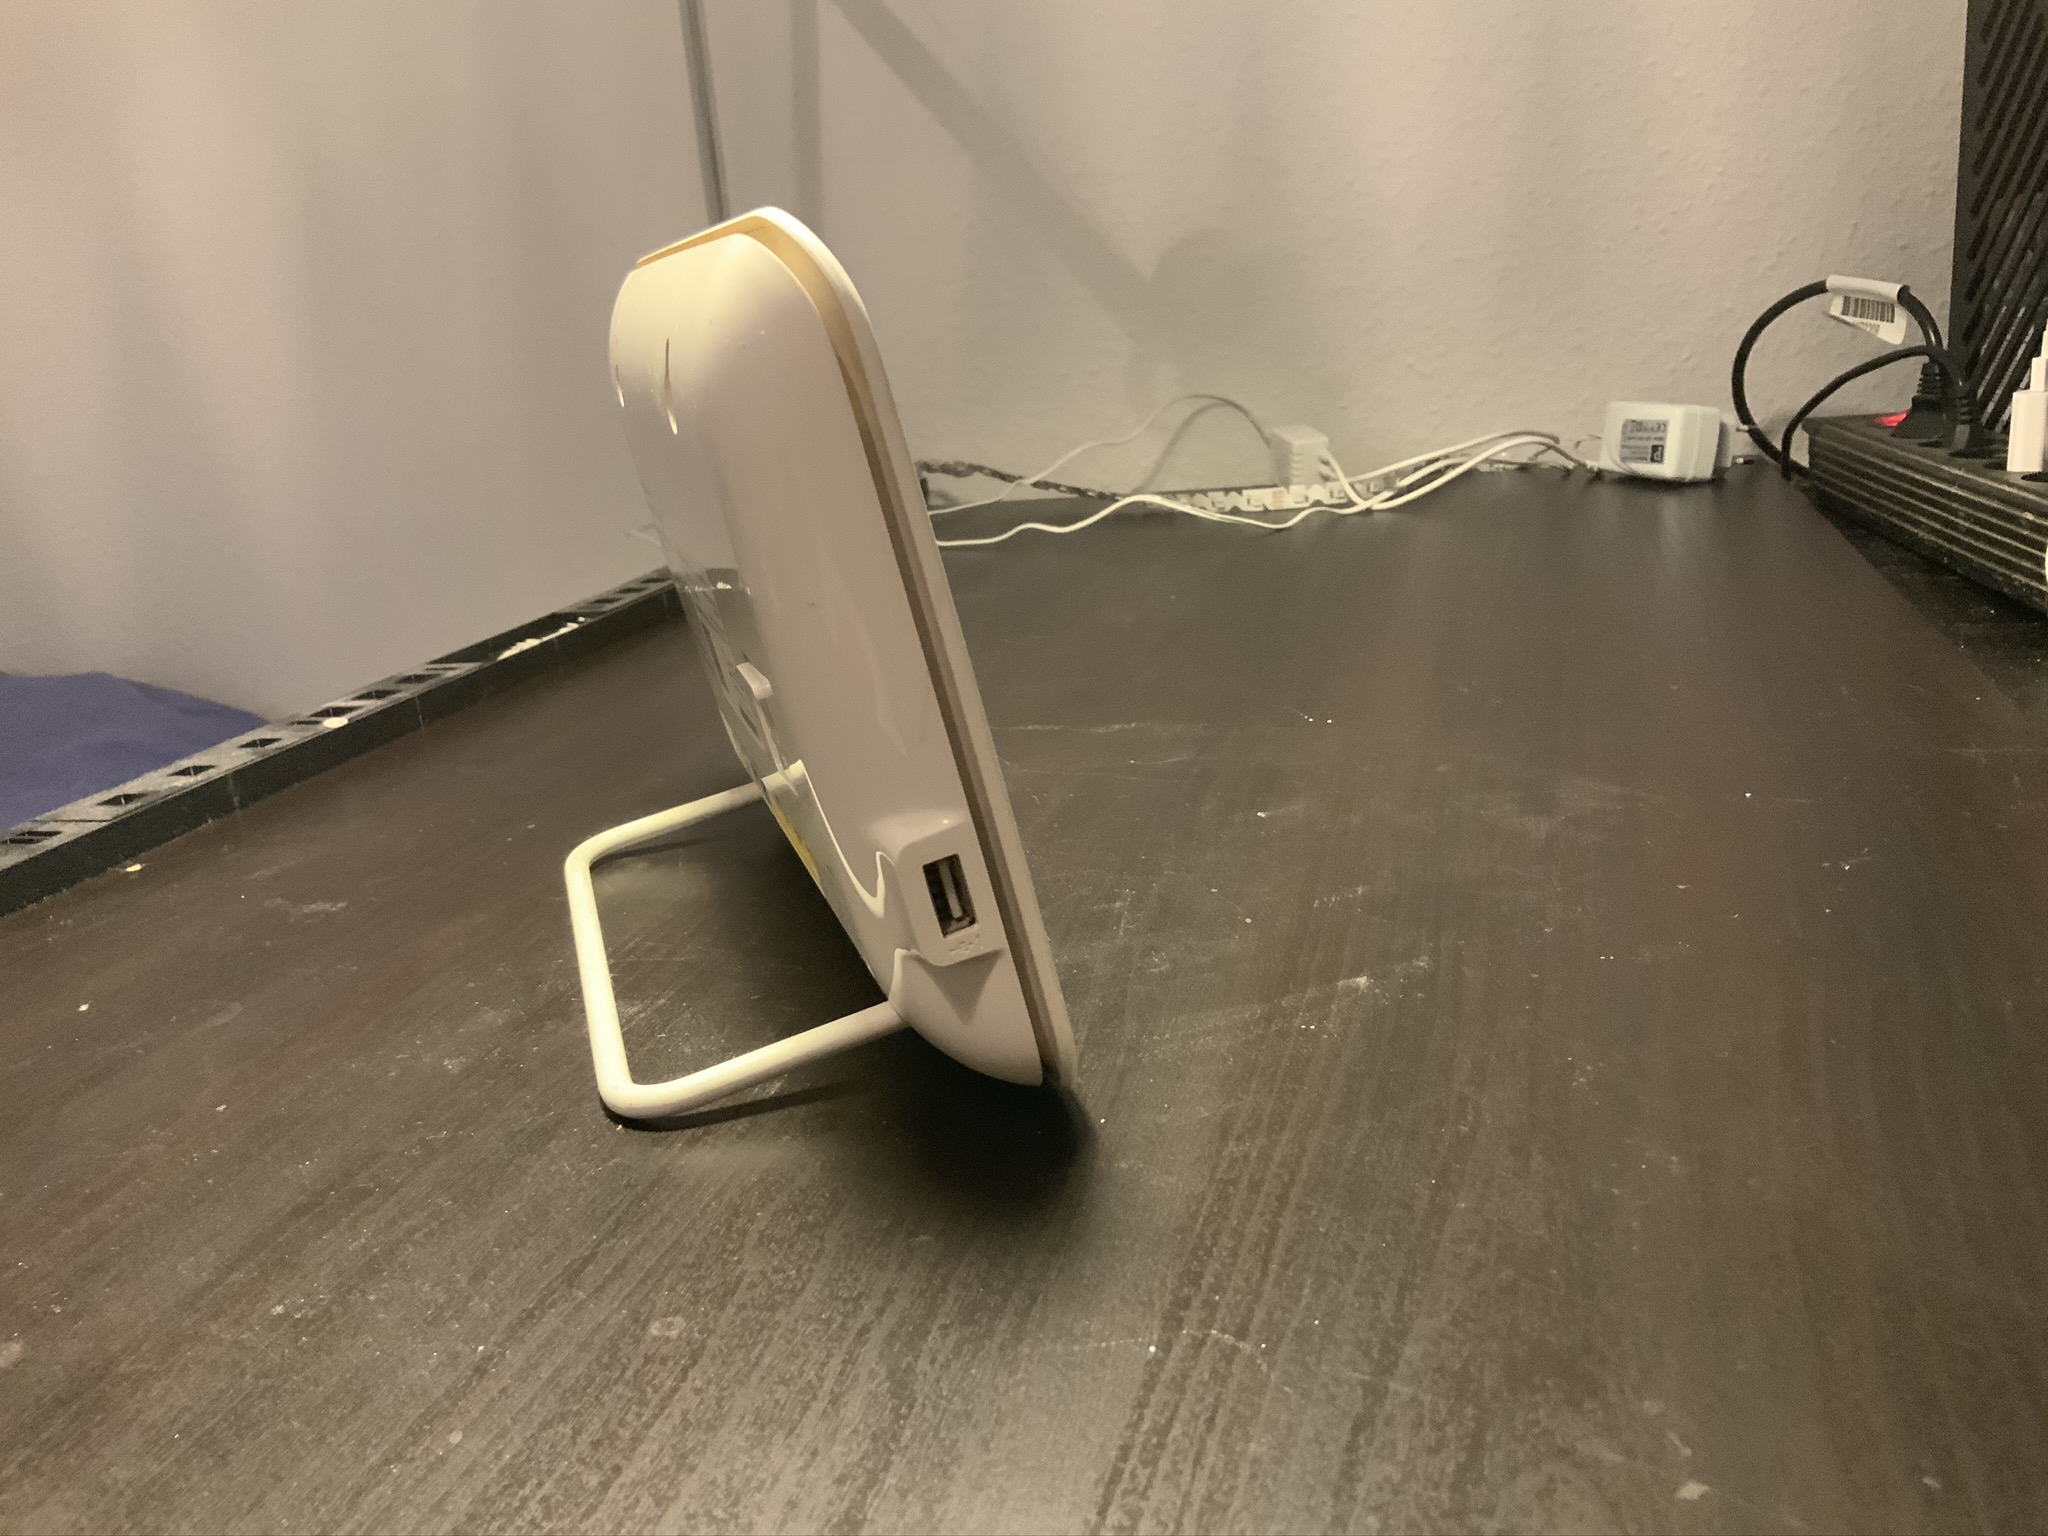router: (589, 197, 1105, 1108)
